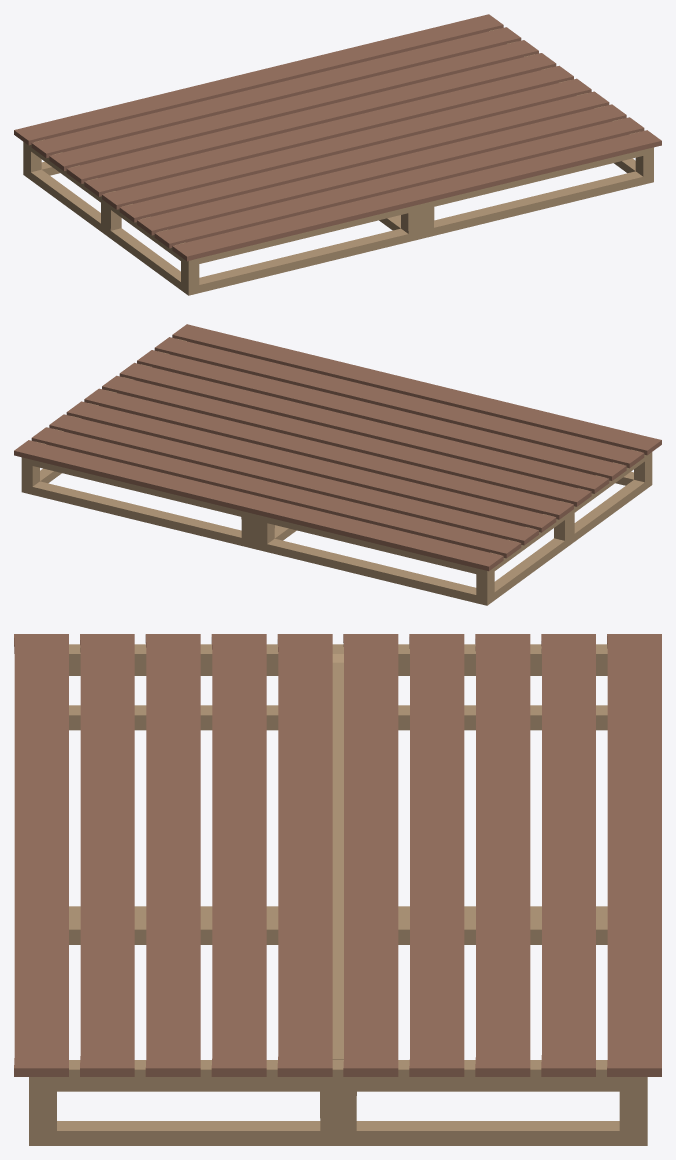
The model's file is Pallet.fbx.
3 views of the same model, one above another, from view 1: azimuth 30°, elevation 25°; view 2: azimuth 150°, elevation 25°; view 3: azimuth 270°, elevation 25° (orthographic). The views are drawn at different scales.
Visible parts, largest first — view 1: Pallet; view 2: Pallet; view 3: Pallet.
Part boxes in pixels (x1,y1,x2,y2): Pallet: [14, 14, 661, 295]; Pallet: [14, 324, 661, 605]; Pallet: [14, 634, 661, 1145].
Size of the model in its own units: 311 by 27.19 by 196.
